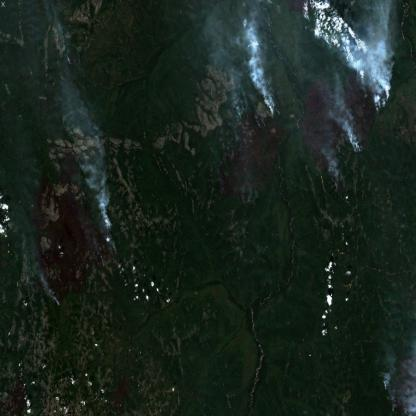fire: (364, 72, 394, 112), (96, 206, 115, 243), (348, 133, 362, 156), (262, 102, 278, 122)
